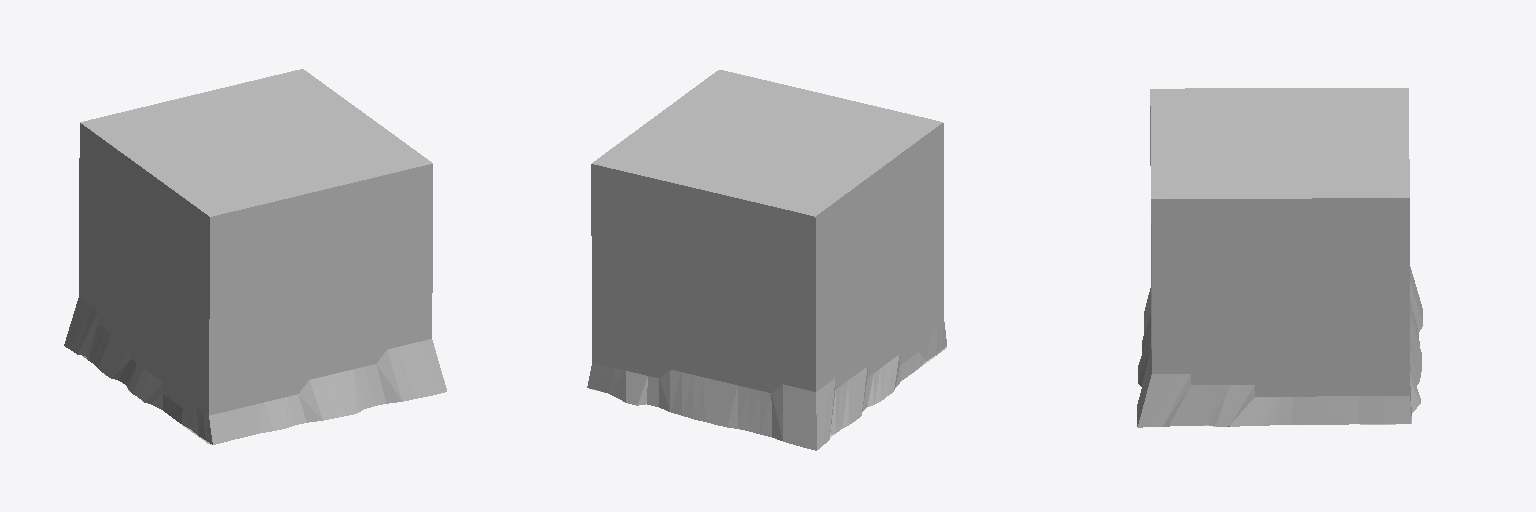
File: mod0155.obj
3 renders of one model, left to right at view 1: azimuth 30°, elevation 25°; view 2: azimuth 150°, elevation 25°; view 3: azimuth 270°, elevation 25°, orthographic.
Visible parts, largest first — view 1: Box001; view 2: Box001; view 3: Box001.
Boxes of the visible parts, x1,y1,x2,y2 form: Box001: [64, 69, 446, 444]; Box001: [587, 70, 946, 450]; Box001: [1137, 88, 1422, 427].
Bounding box in the file's own units: 0.5799 × 0.5232 × 0.5979.